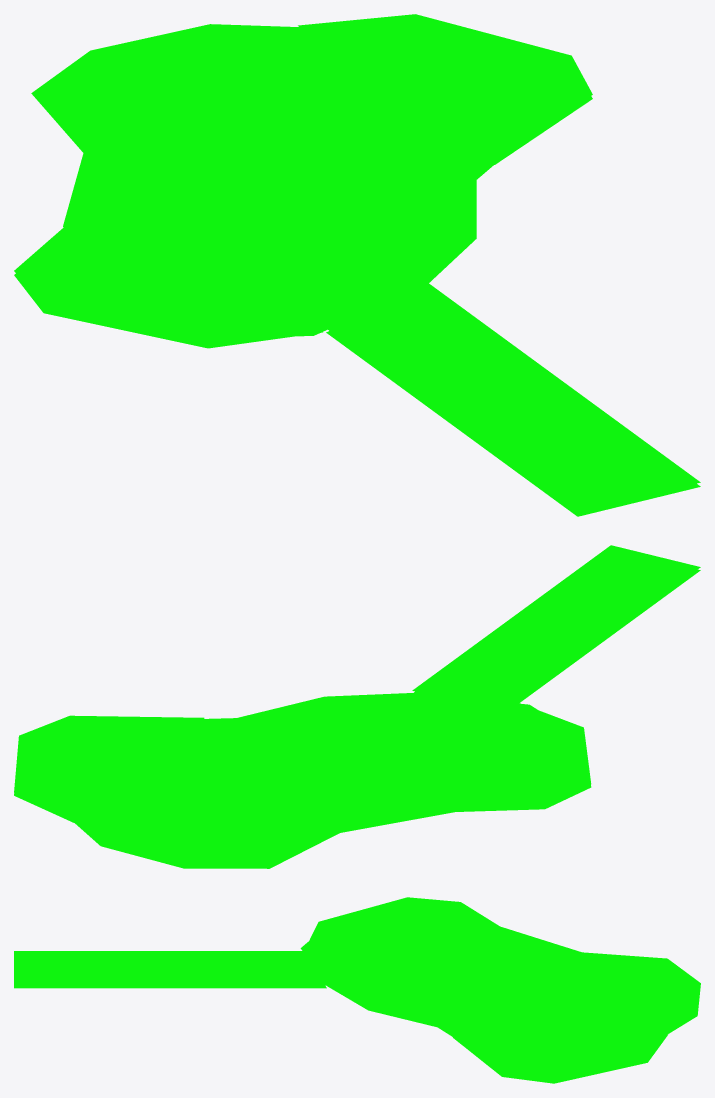
The model's file is s02b_ga1-floor.glb.
3 views of the same model, one above another, from view 1: azimuth 30°, elevation 25°; view 2: azimuth 150°, elevation 25°; view 3: azimuth 270°, elevation 25° (orthographic). The views are drawn at different scales.
Parts seen in each view (by area): view 1: collision_floor-colonly; view 2: collision_floor-colonly; view 3: collision_floor-colonly.
Boxes of the visible parts, box(x1,y1,x2,y2) form: collision_floor-colonly: box(14, 14, 700, 516); collision_floor-colonly: box(14, 545, 700, 868); collision_floor-colonly: box(14, 897, 700, 1083).
Bounding box in the file's own units: 31.93 × 0.1992 × 50.38.
